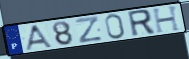0: (104, 12, 127, 40)
8: (51, 20, 74, 46)
A: (24, 24, 54, 52)
H: (151, 4, 182, 34)
R: (126, 8, 157, 38)
Z: (74, 15, 104, 45)
